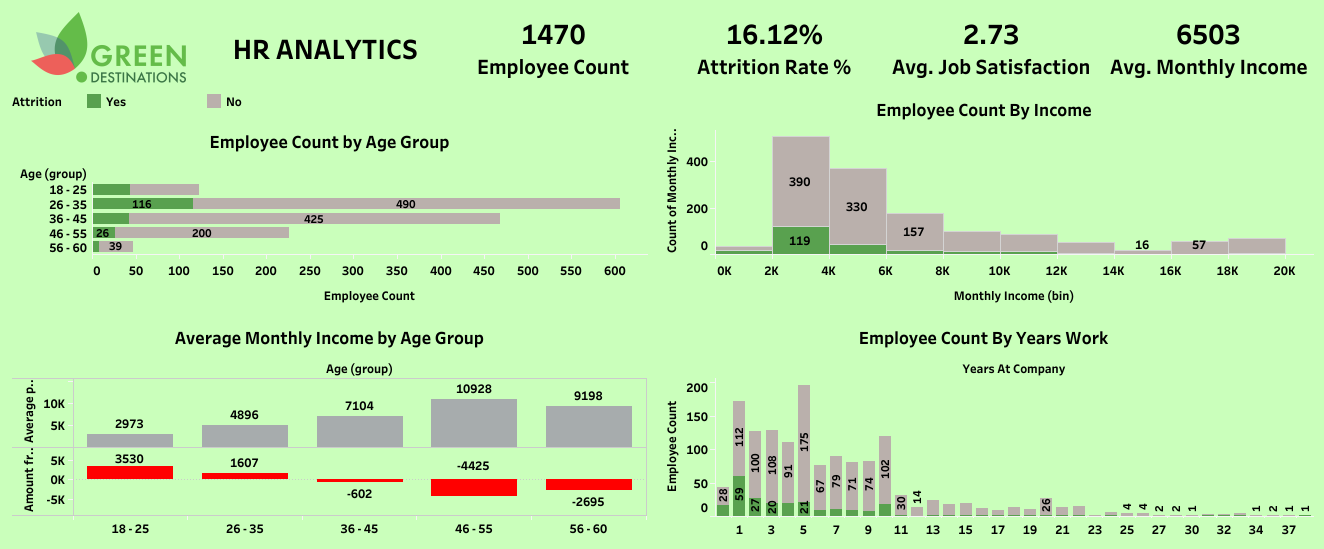

The dashboard page shown, as its layout file describes it:
{"tool":"tableau","page":{"name":"HR Analytics","canvas":[1325,550],"ordinal":0},"visuals":[{"type":"image","param":"Image/greendestination+logo.png","box":[8,8,202,78.6]},{"type":"text","box":[210,8,231,78.6]},{"type":"worksheet","title":"Total Employee Count","mark":"Automatic","box":[441,8,225,78.6]},{"type":"worksheet","title":"Attrition rate","mark":"Automatic","box":[666,8,217,78.6]},{"type":"worksheet","title":"Job Satisfaction","mark":"Automatic","box":[883,8,218,78.6]},{"type":"worksheet","title":"Avg. Monthly Income","mark":"Automatic","box":[1101,8,216,78.6]},{"type":"legend","title":"Employee Count by Age Group","param":"[federated.1uwo75k106zris1dure1402rh6lp].[none:Attrition:nk]","box":[8,86.6,643,32]},{"type":"worksheet","title":"Employee Count By Income","mark":"Automatic","rows":["MonthlyIncome"],"cols":["Monthly Income (bin)"],"box":[651,86.6,666,228.4]},{"type":"worksheet","title":"Employee Count by Age Group","mark":"Automatic","cols":["EmployeeCount"],"box":[8,118.6,643,196.3]},{"type":"worksheet","title":"Avg Income per Age","mark":"Automatic","rows":["Calculation_748160546105024513","Calculation_748160546109718533"],"box":[8,315,643,227]},{"type":"worksheet","title":"Employee Count By Years Work","mark":"Automatic","rows":["EmployeeCount"],"cols":["YearsAtCompany"],"box":[651,315,666,227]}]}

Visuals, with their boxes in screenshot pixels (x1, y1, x2, y2), scaled from the page's 1325x550 canvas onto the 1324x549 screenshot:
image: bbox=[8, 8, 210, 86]
text: bbox=[210, 8, 441, 86]
"Total Employee Count" worksheet: bbox=[441, 8, 665, 86]
"Attrition rate" worksheet: bbox=[665, 8, 882, 86]
"Job Satisfaction" worksheet: bbox=[882, 8, 1100, 86]
"Avg. Monthly Income" worksheet: bbox=[1100, 8, 1316, 86]
"Employee Count by Age Group" legend: bbox=[8, 86, 651, 118]
"Employee Count By Income" worksheet: bbox=[651, 86, 1316, 314]
"Employee Count by Age Group" worksheet: bbox=[8, 118, 651, 314]
"Avg Income per Age" worksheet: bbox=[8, 314, 651, 541]
"Employee Count By Years Work" worksheet: bbox=[651, 314, 1316, 541]
